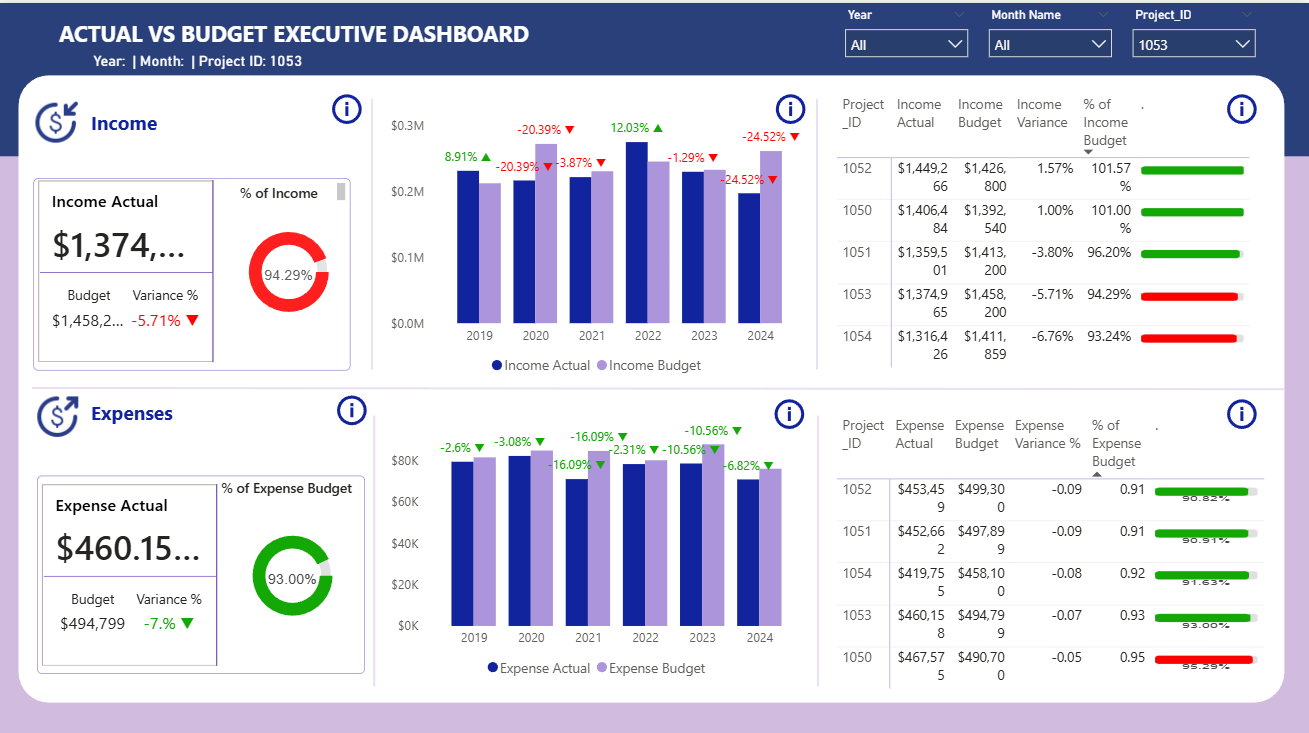

What the dashboard file says about the page in this screenshot:
{"tool":"powerbi","page":{"name":"Page 1","canvas":[1280,720],"ordinal":0},"visuals":[{"type":"slicer","fields":{"Values":["Performance Data.Year"]},"box":[817.1,0,140,62.9],"z":0},{"type":"shape","box":[36,170.6,309.5,187.8],"z":0,"group":"g1"},{"type":"shape","box":[38.8,460.4,320.3,193.2],"z":0,"group":"g2"},{"type":"slicer","fields":{"Values":["Performance Data.Month Name"]},"box":[957.1,0,140,62.9],"z":1000},{"type":"slicer","fields":{"Values":["Performance Data.Project_ID"]},"box":[1097.1,0,140,62.9],"z":2000},{"type":"group","id":"g1","title":"Group 1","box":[35.8,168.7,320.9,189.6],"z":3000},{"type":"cardVisual","fields":{"Data":["Key Measures.Income Actual"]},"box":[35.8,168.7,181,187],"z":4000,"group":"g1"},{"type":"group","id":"g2","title":"Group 1","box":[38.8,458.2,322.4,195.5],"z":4000},{"type":"cardVisual","fields":{"Data":["Key Measures.Expense Actual"]},"box":[38.9,464.4,181,187],"z":4000,"group":"g2"},{"type":"clusteredColumnChart","fields":{"Y":["Key Measures.Income Actual","Key Measures.Income Budget"],"Category":["Performance Data.Year"]},"box":[379.1,98.5,414.9,273.1],"z":5000},{"type":"cardVisual","fields":{"Data":["Key Measures.% of Income Budget"]},"box":[217.1,199,139.2,128.4],"z":5000,"group":"g1"},{"type":"cardVisual","fields":{"Data":["Key Measures.% of Expense Budget"]},"box":[220.1,494.7,139.2,128.4],"z":5000,"group":"g2"},{"type":"clusteredColumnChart","fields":{"Y":["Key Measures.Expense Actual","Key Measures.Expense Budget"],"Category":["Performance Data.Year"]},"box":[379.1,392.5,414.9,274.6],"z":6000},{"type":"pivotTable","fields":{"Rows":["Performance Data.Project_ID"],"Values":["Key Measures.Income Actual","Key Measures.Income Budget","Key Measures.Income Variance %","Key Measures.% of Income Budget","Key Measures.Income Bar Chart"]},"box":[814.9,83.6,435.8,277.6],"z":7000},{"type":"textbox","box":[209,170.6,136.5,31.1],"z":7001,"group":"g1"},{"type":"textbox","box":[205,458.2,155.4,39.2],"z":7001,"group":"g2"},{"type":"pivotTable","fields":{"Rows":["Performance Data.Project_ID"],"Values":["Key Measures.Expense Actual","Key Measures.Expense Budget","Key Measures.Expense Variance %","Key Measures.% of Expense Budget","Key Measures.Expense Bar Chart"]},"box":[814.9,397,435.8,277.6],"z":8000},{"type":"textbox","box":[86.6,98.5,113.4,35.8],"z":9000},{"type":"textbox","box":[86.6,382.1,113.4,38.8],"z":10000},{"type":"image","box":[28.4,73.1,58.2,86.6],"z":11000},{"type":"image","box":[0,374.6,117.9,58.2],"z":12000},{"type":"textbox","box":[49.8,10,479.3,38.4],"z":13000},{"type":"card","fields":{"Values":["Key Measures.Dynamic Header"]},"box":[22.8,42.7,345.6,29.9],"z":14000},{"type":"actionButton","box":[322.4,83.6,38.8,38.8],"z":15000},{"type":"actionButton","box":[326.9,377.6,40.3,38.8],"z":16000},{"type":"actionButton","box":[753.7,382.1,40.3,38.8],"z":17000},{"type":"actionButton","box":[1195.5,382.1,41.8,38.8],"z":18000},{"type":"actionButton","box":[755.2,83.6,40.3,38.8],"z":19000},{"type":"actionButton","box":[1195.5,83.6,41.8,38.8],"z":20000}]}

Visuals, with their boxes in screenshot pixels (x1, y1, x2, y2), scaled from the page's 1280x720 canvas onto the 1309x733 screenshot:
slicer - Performance Data.Year: <bbox>836, 0, 979, 64</bbox>
shape: <bbox>37, 174, 353, 365</bbox>
shape: <bbox>40, 469, 367, 665</bbox>
slicer - Performance Data.Month Name: <bbox>979, 0, 1122, 64</bbox>
slicer - Performance Data.Project_ID: <bbox>1122, 0, 1265, 64</bbox>
"Group 1" group: <bbox>37, 172, 365, 365</bbox>
cardVisual - Key Measures.Income Actual: <bbox>37, 172, 222, 362</bbox>
"Group 1" group: <bbox>40, 466, 369, 666</bbox>
cardVisual - Key Measures.Expense Actual: <bbox>40, 473, 225, 663</bbox>
clusteredColumnChart - Key Measures.Income Actual x Key Measures.Income Budget: <bbox>388, 100, 812, 378</bbox>
cardVisual - Key Measures.% of Income Budget: <bbox>222, 203, 364, 333</bbox>
cardVisual - Key Measures.% of Expense Budget: <bbox>225, 504, 367, 634</bbox>
clusteredColumnChart - Key Measures.Expense Actual x Key Measures.Expense Budget: <bbox>388, 400, 812, 679</bbox>
pivotTable - Performance Data.Project_ID x Key Measures.Income Actual: <bbox>833, 85, 1279, 368</bbox>
textbox: <bbox>214, 174, 353, 205</bbox>
textbox: <bbox>210, 466, 369, 506</bbox>
pivotTable - Performance Data.Project_ID x Key Measures.Expense Actual: <bbox>833, 404, 1279, 687</bbox>
textbox: <bbox>89, 100, 205, 137</bbox>
textbox: <bbox>89, 389, 205, 428</bbox>
image: <bbox>29, 74, 89, 163</bbox>
image: <bbox>0, 381, 121, 441</bbox>
textbox: <bbox>51, 10, 541, 49</bbox>
card - Key Measures.Dynamic Header: <bbox>23, 43, 377, 74</bbox>
actionButton: <bbox>330, 85, 369, 125</bbox>
actionButton: <bbox>334, 384, 376, 424</bbox>
actionButton: <bbox>771, 389, 812, 428</bbox>
actionButton: <bbox>1223, 389, 1265, 428</bbox>
actionButton: <bbox>772, 85, 814, 125</bbox>
actionButton: <bbox>1223, 85, 1265, 125</bbox>
